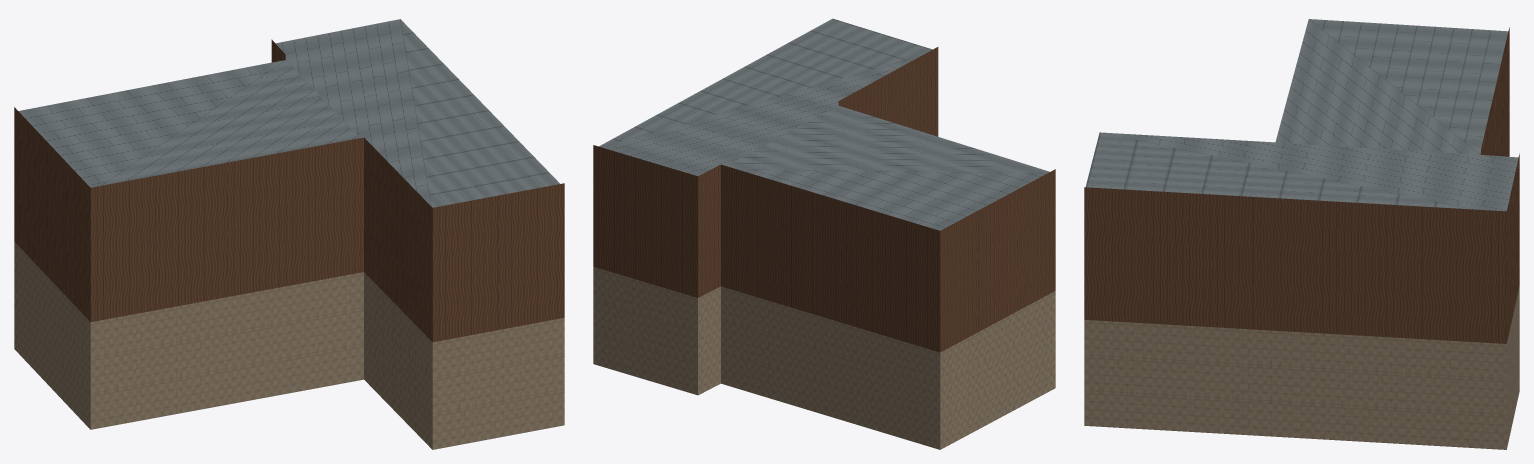
Rendered from bld_c-35_-14_643.gltf.
The picture shows the model from 3 angles, left to right: view 1: azimuth 30°, elevation 25°; view 2: azimuth 150°, elevation 25°; view 3: azimuth 270°, elevation 25°; orthographic projection. The views are drawn at different scales.
Visible parts, largest first — view 1: bld_c-35_-14_643; view 2: bld_c-35_-14_643; view 3: bld_c-35_-14_643.
Part boxes in pixels (x1,y1,x2,y2): bld_c-35_-14_643: (14, 19, 564, 449); bld_c-35_-14_643: (593, 18, 1055, 449); bld_c-35_-14_643: (1084, 19, 1519, 449).
Bounding box in the file's own units: 20.37 × 11.48 × 18.99.
4 materials, 4 textured.
